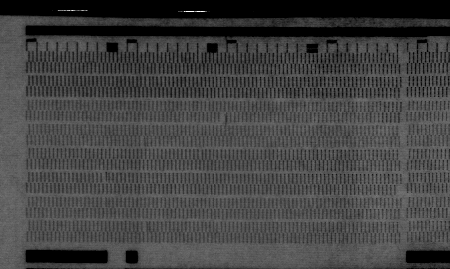Broken hole: (218, 110, 228, 124), (394, 183, 404, 195)
Oblique printing: (98, 171, 111, 184), (139, 221, 151, 232), (138, 136, 149, 147)
